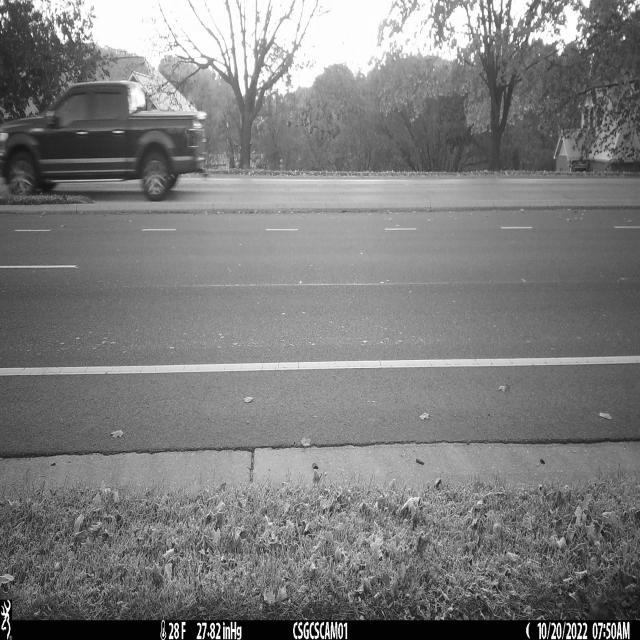Pickup: (0, 82, 209, 202)
